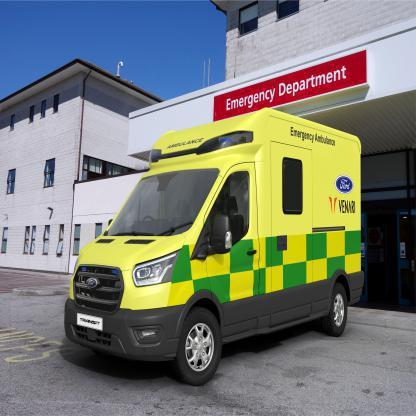Ambulance - v1 Ambulance last generate: (53, 117, 368, 386)
